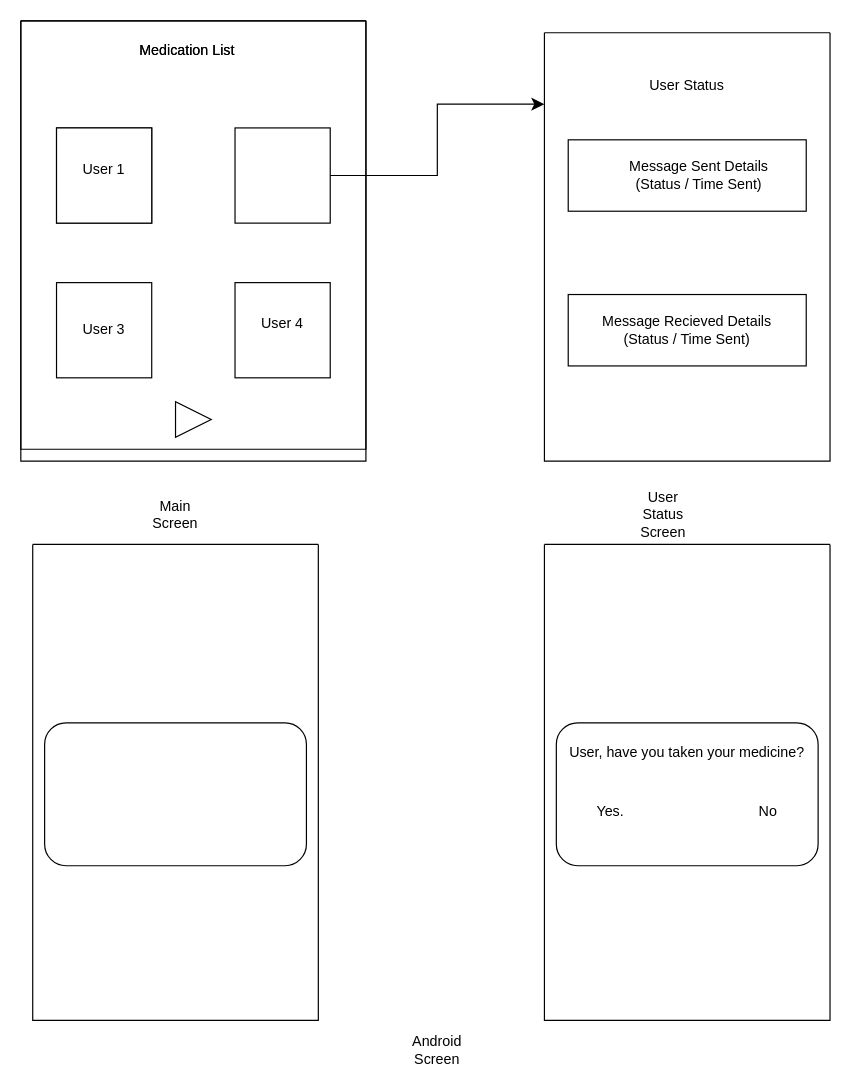
Image size: 851x1089. Some labels were removed from this diagram. The centre of each missing label's shape, as x and y in pixels:
"Hello User, it is time to take your medicine" belongs at pixel 174 794.
"User 2" belongs at pixel 282 175.
